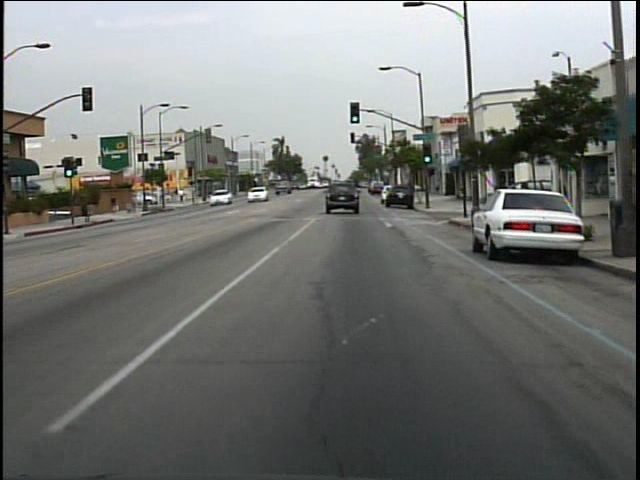person: (490, 175, 514, 227), (107, 191, 127, 220), (178, 186, 188, 205)
